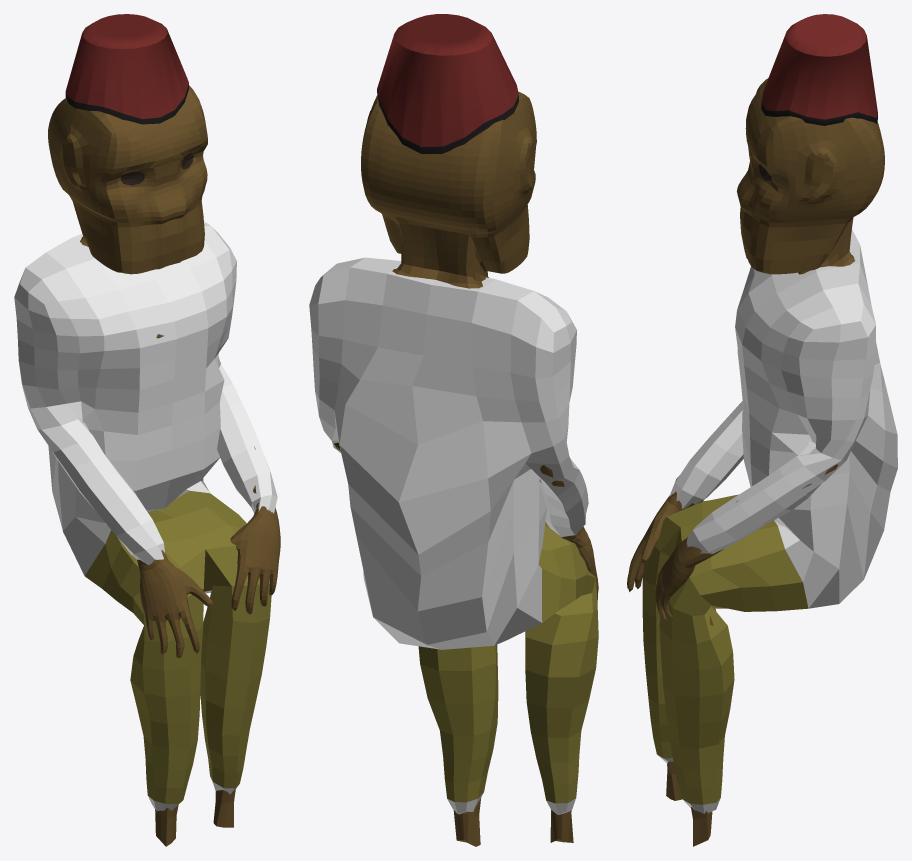
The model's file is Anil_IndianCharacter_v05.fbx.
3 renders of one model, left to right at view 1: azimuth 30°, elevation 25°; view 2: azimuth 150°, elevation 25°; view 3: azimuth 270°, elevation 25°, orthographic. The views are drawn at different scales.
Parts seen in each view (by area): view 1: joint6_polySurface19, polySurface4, polySurface14; view 2: joint6_polySurface19, polySurface4, polySurface14; view 3: joint6_polySurface19, polySurface4, polySurface14.
Part boxes in pixels (x1=…): joint6_polySurface19: x1=14, y1=85, x2=280, y2=846; polySurface4: x1=65, y1=14, x2=188, y2=124; polySurface14: x1=137, y1=550, x2=213, y2=657; joint6_polySurface19: x1=309, y1=91, x2=598, y2=846; polySurface4: x1=377, y1=14, x2=518, y2=153; polySurface14: x1=559, y1=526, x2=598, y2=602; joint6_polySurface19: x1=642, y1=78, x2=897, y2=846; polySurface4: x1=761, y1=14, x2=877, y2=125; polySurface14: x1=627, y1=491, x2=704, y2=591.
Size of the model in its own units: 8.08 by 28.76 by 8.87.
